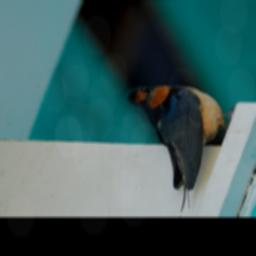Swallow: (104, 80, 237, 213)
